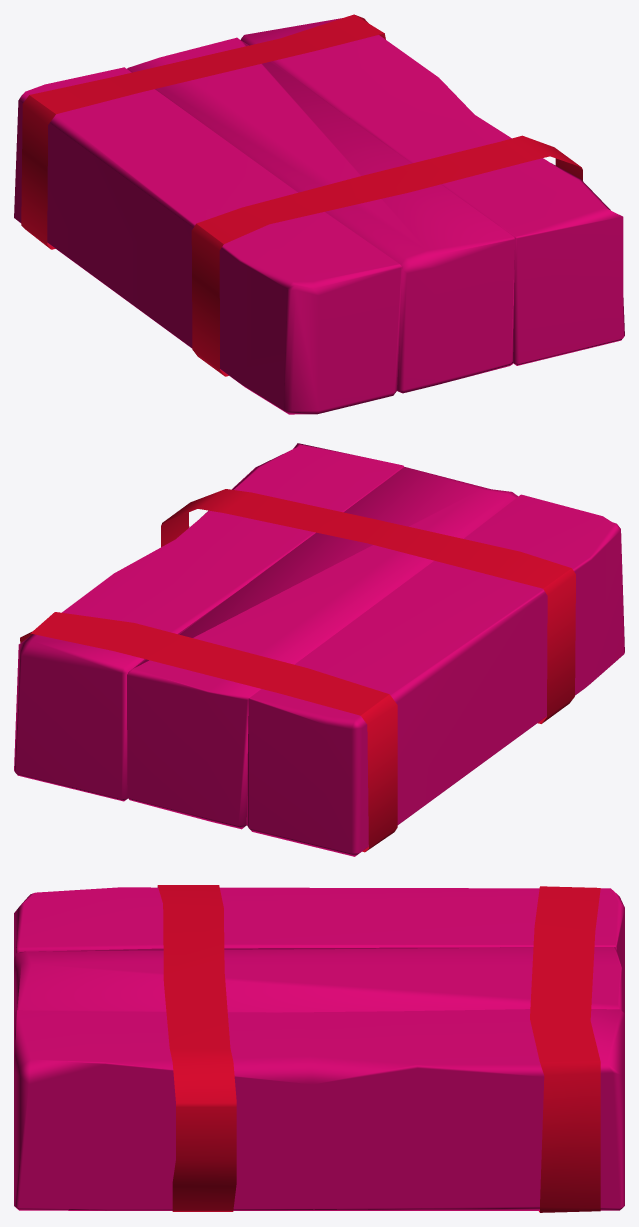
Rendered from Explosive.fbx.
3 renders of one model, top to bottom at view 1: azimuth 30°, elevation 25°; view 2: azimuth 150°, elevation 25°; view 3: azimuth 270°, elevation 25°, orthographic. The views are drawn at different scales.
Parts seen in each view (by area): view 1: models/weapons/w_eq_c4.001; view 2: models/weapons/w_eq_c4.001; view 3: models/weapons/w_eq_c4.001.
Part boxes in pixels (<box>): models/weapons/w_eq_c4.001: <box>14,14,624,414</box>; models/weapons/w_eq_c4.001: <box>14,443,624,856</box>; models/weapons/w_eq_c4.001: <box>14,885,624,1212</box>.
Bounding box in the file's own units: 30.95 × 11.26 × 39.95.
